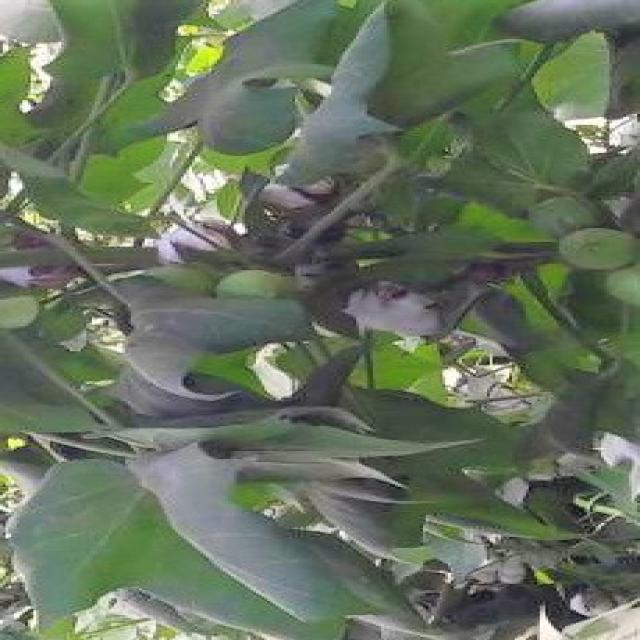Healthy Leaf: (19, 1, 640, 640)
